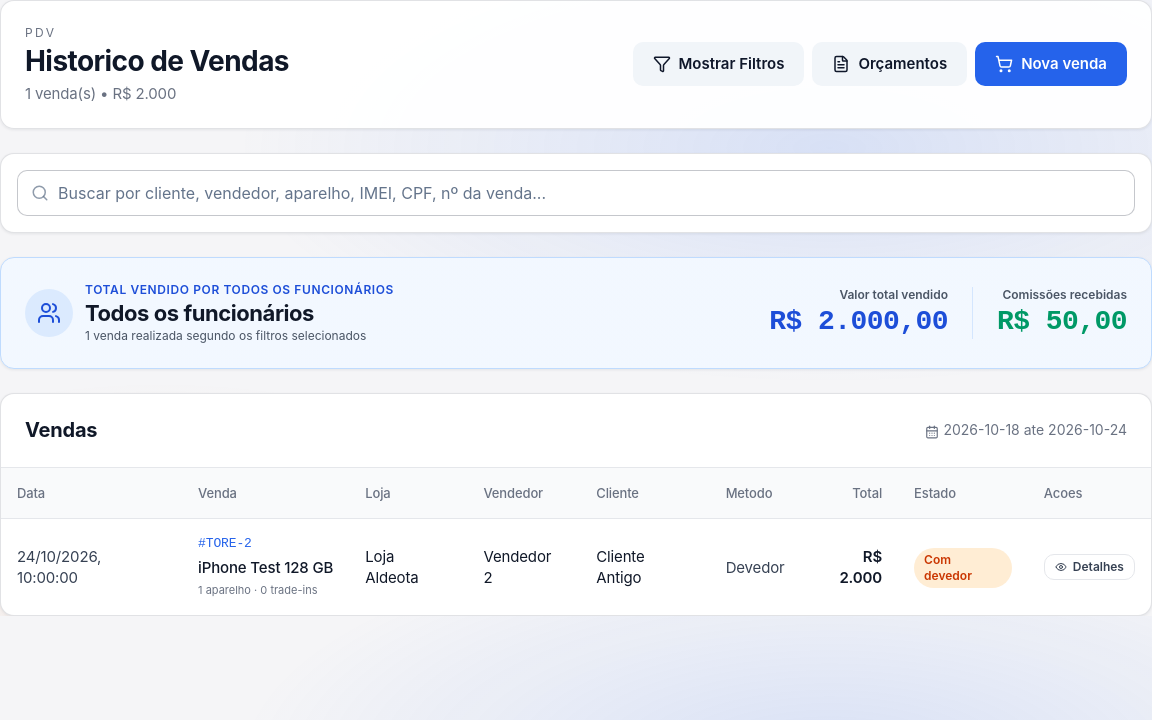
Test case: PDVHistory › defaults store filter to logged seller store
Click the button "Mostrar Filtros": {"x": 718, "y": 64} [632,42,804,86]
(page scrolled)
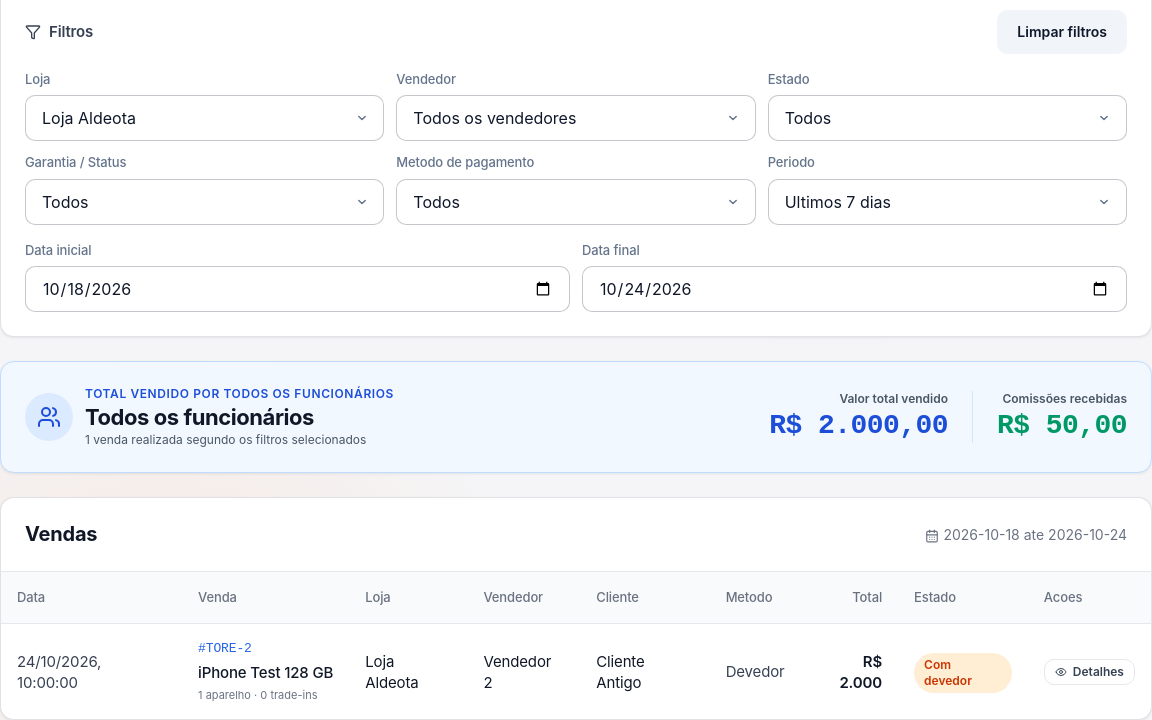
Expected: the text "Cliente Antigo" is shown, [580,623,710,719]
Result: the dropdown labelled "Loja" shows "Loja Aldeota" at [25,95,384,141]
